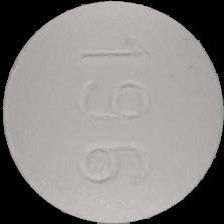54868-6336: (0, 0, 224, 224)
